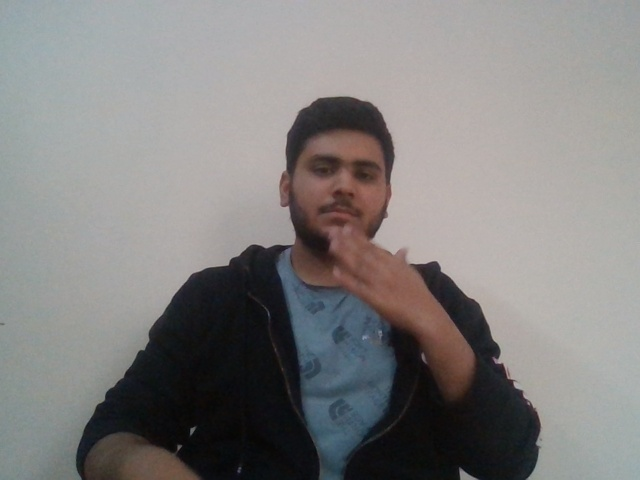Thanks: (304, 200, 437, 307)
